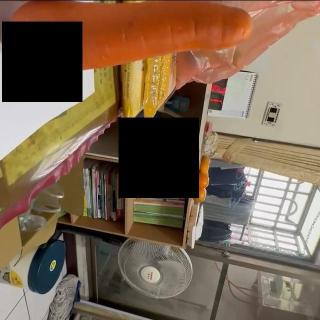carrot: (7, 0, 255, 74)
